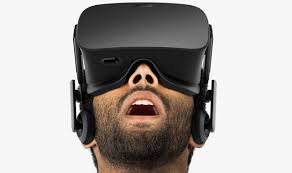oculus: (71, 3, 216, 90)
